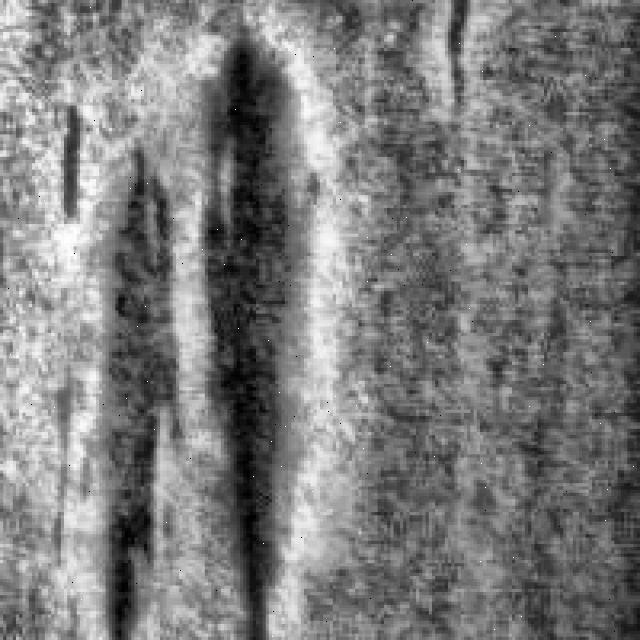Patches: (186, 35, 326, 630), (80, 128, 186, 630), (425, 0, 473, 134), (44, 96, 86, 218)
